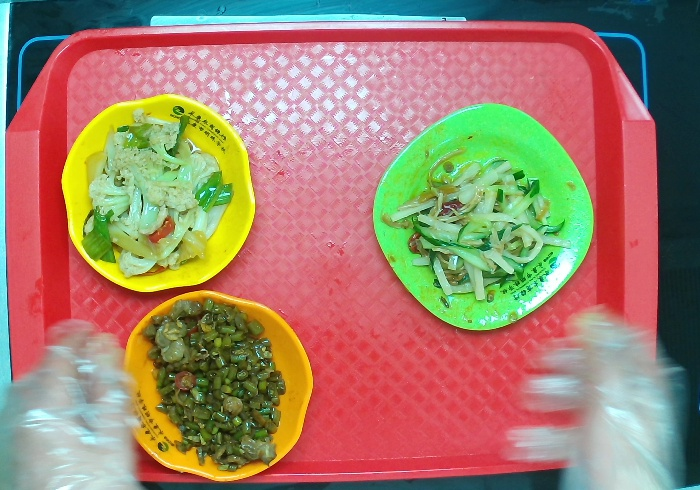YKMZ-Huang_Se_Ao_Bian_Wan: (54, 89, 265, 301)
YKMZ-Ju_Se_Ao_Bian_Wan: (127, 285, 320, 487)
YKMZ-Lv_Se_Fang_Die: (365, 92, 599, 332)
